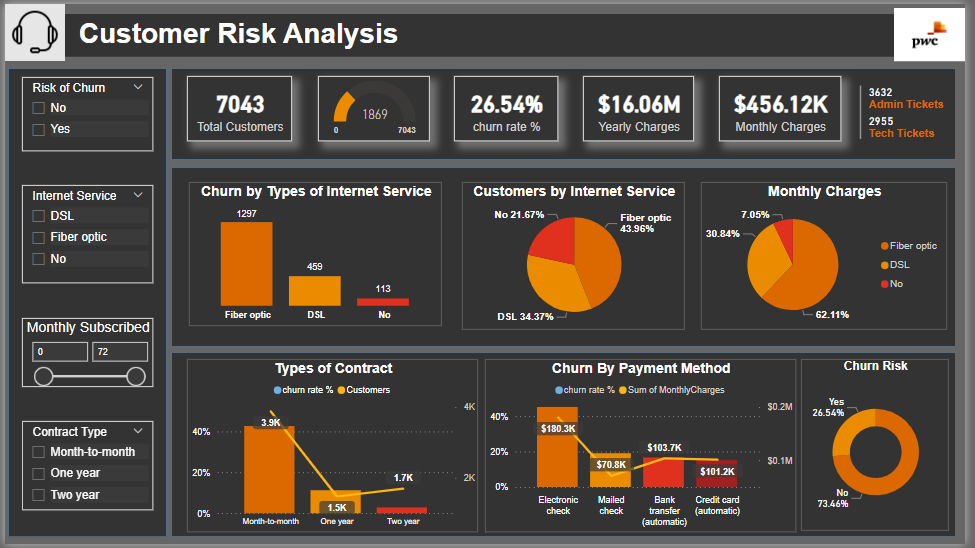

What the dashboard file says about the page in this screenshot:
{"tool":"powerbi","page":{"name":"Customer Risk Analysis","canvas":[1280,720],"ordinal":2},"visuals":[{"type":"shape","box":[221.3,464,1046.7,246.7],"z":0},{"type":"shape","box":[221.3,217.3,1046.7,240],"z":1000},{"type":"pieChart","title":"Customers by Internet Service","fields":{"Category":["01 Churn-Dataset.InternetService"],"Y":["Count(churn.customerID)"]},"box":[609.3,237.7,297.3,197.3],"z":2000},{"type":"textbox","box":[80,13.3,1105.3,72],"z":3000},{"type":"textbox","box":[0,5.3,1268,65.3],"z":4000},{"type":"columnChart","title":"Churn by Types of Internet Service","fields":{"Category":["churn.InternetService"],"Y":["churn.Count of Chunn for Yes"]},"box":[245.3,237.3,337.3,192],"z":5000},{"type":"pieChart","title":"Monthly Charges","fields":{"Category":["01 Churn-Dataset.InternetService"],"Y":["Sum(churn.MonthlyCharges)"]},"box":[928,237.3,328,197.3],"z":6000},{"type":"lineClusteredColumnComboChart","title":"Types of Contract","fields":{"Category":["churn.Contract"],"Y":["churn.churn rate %"],"Y2":["CountNonNull(churn.customerID)"]},"box":[242.7,473.3,388,230.7],"z":7000},{"type":"shape","box":[221.3,85.3,1046.7,122.7],"z":8000},{"type":"card","fields":{"Values":["Count(01 Churn-Dataset.customerID)"]},"box":[242.7,96,140,86.7],"z":9000},{"type":"card","fields":{"Values":["Sum(01 Churn-Dataset.TotalCharges)"]},"box":[771,96,148,86.7],"z":10000},{"type":"card","fields":{"Values":["churn.churn rate %"]},"box":[599,96,138.7,86.7],"z":11000},{"type":"gauge","fields":{"MaxValue":["Count(churn.customerID)"],"Y":["churn.Count of Chunn for Yes"]},"box":[417.7,96,149.3,86.7],"z":12000},{"type":"multiRowCard","fields":{"Values":["Sum(churn.numAdminTickets)","Sum(churn.numTechTickets)"]},"box":[1134.7,104,124,84],"z":13000},{"type":"image","box":[0,0,80,76],"z":14000},{"type":"card","fields":{"Values":["Sum(churn.MonthlyCharges)"]},"box":[952,96,162.7,86.7],"z":15000},{"type":"image","box":[1185.3,5.3,94.7,70.7],"z":16000},{"type":"shape","box":[4,85.3,212,625.3],"z":17000},{"type":"slicer","fields":{"Values":["churn.Churn"]},"box":[22.7,97.3,174.7,98.7],"z":18000},{"type":"slicer","fields":{"Values":["churn.InternetService"]},"box":[22.7,241.8,174.7,130.7],"z":19000},{"type":"slicer","title":"Monthly Subscribed","fields":{"Values":["churn.tenure"]},"box":[22.7,418.2,174.7,92],"z":20000},{"type":"slicer","fields":{"Values":["churn.Contract"]},"box":[22.7,556,174.7,118.7],"z":21000},{"type":"lineClusteredColumnComboChart","title":"Churn By Payment Method","fields":{"Y":["churn.churn rate %"],"Y2":["Sum(churn.MonthlyCharges)"],"Category":["churn.PaymentMethod"]},"box":[640,473.3,414.7,230.7],"z":22000},{"type":"donutChart","title":"Churn Risk","fields":{"Category":["churn.Churn"],"Y":["CountNonNull(churn.customerID)"]},"box":[1061.3,473.3,197.3,229.3],"z":23000},{"type":"actionButton","box":[1133.3,5.3,52,40],"z":23001}]}

Visuals, with their boxes in screenshot pixels (x1, y1, x2, y2), scaled from the page's 1280x720 canvas onto the 975x548 screenshot:
shape: [169,353,966,541]
shape: [169,165,966,348]
"Customers by Internet Service" pieChart: [464,181,691,331]
textbox: [61,10,903,65]
textbox: [0,4,966,54]
"Churn by Types of Internet Service" columnChart: [187,181,444,327]
"Monthly Charges" pieChart: [707,181,957,331]
"Types of Contract" lineClusteredColumnComboChart: [185,360,480,536]
shape: [169,65,966,158]
card - Count(01 Churn-Dataset.customerID): [185,73,292,139]
card - Sum(01 Churn-Dataset.TotalCharges): [587,73,700,139]
card - churn.churn rate %: [456,73,562,139]
gauge - Count(churn.customerID) x churn.Count of Chunn for Yes: [318,73,432,139]
multiRowCard - Sum(churn.numAdminTickets) x Sum(churn.numTechTickets): [864,79,959,143]
image: [0,0,61,58]
card - Sum(churn.MonthlyCharges): [725,73,849,139]
image: [903,4,974,58]
shape: [3,65,165,541]
slicer - churn.Churn: [17,74,150,149]
slicer - churn.InternetService: [17,184,150,284]
"Monthly Subscribed" slicer: [17,318,150,388]
slicer - churn.Contract: [17,423,150,514]
"Churn By Payment Method" lineClusteredColumnComboChart: [488,360,803,536]
"Churn Risk" donutChart: [808,360,959,535]
actionButton: [863,4,903,34]
